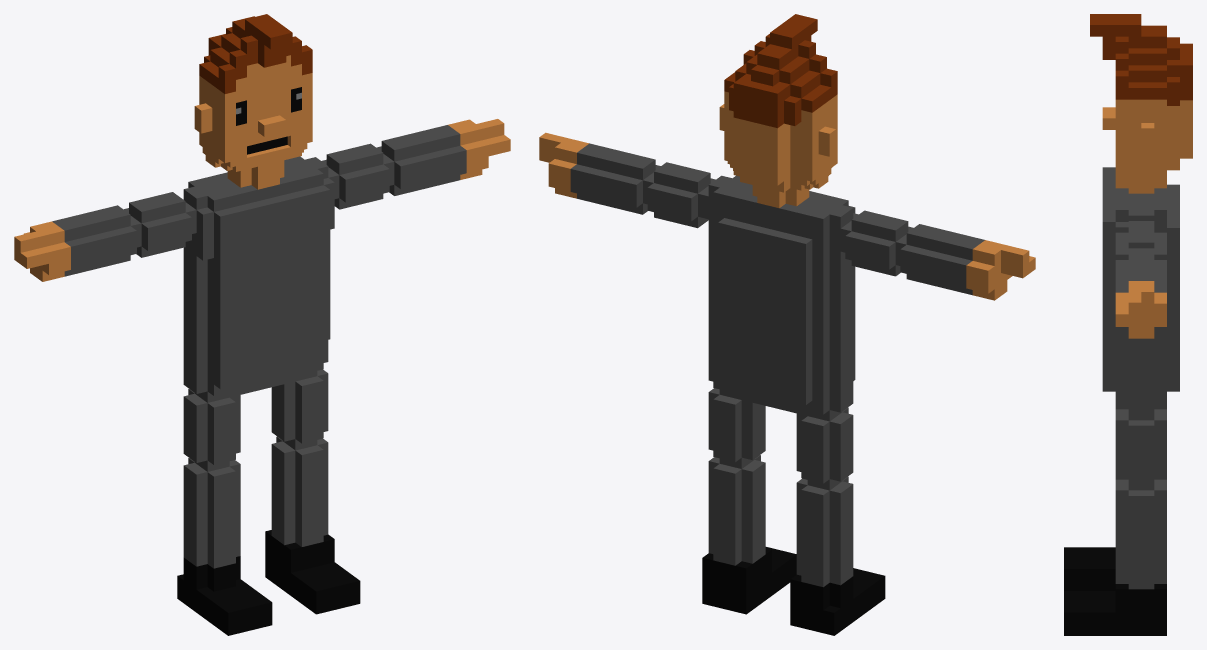
File: charecter-3.obj
The picture shows the model from 3 angles, left to right: view 1: azimuth 30°, elevation 25°; view 2: azimuth 150°, elevation 25°; view 3: azimuth 270°, elevation 25°; orthographic projection.
Bounding box in the file's own units: 8.8 × 10 × 2.
1 material, 1 textured.
